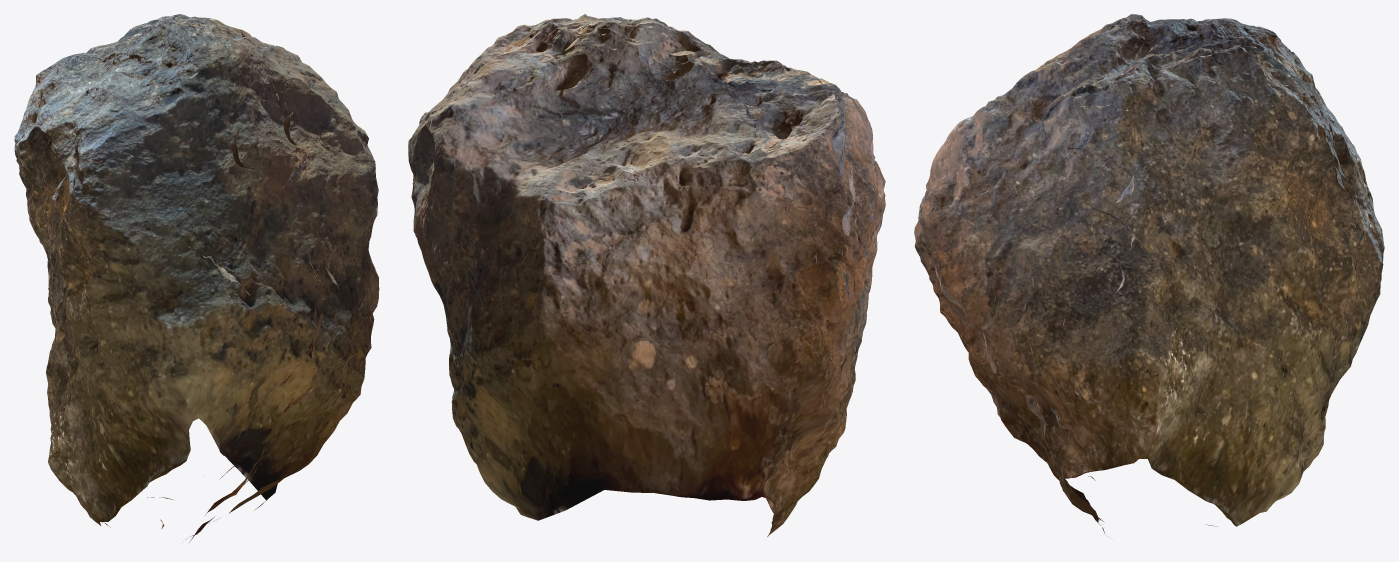
3 views of the same model, side by side, from view 1: azimuth 30°, elevation 25°; view 2: azimuth 150°, elevation 25°; view 3: azimuth 270°, elevation 25° (orthographic). The views are drawn at different scales.
Visible parts, largest first — view 1: Object_4; view 2: Object_4; view 3: Object_4.
Part boxes in pixels (bbox=[...]): Object_4: bbox=[14, 14, 379, 542]; Object_4: bbox=[408, 14, 885, 536]; Object_4: bbox=[914, 14, 1384, 533].
Size of the model in its own units: 0.2284 by 0.2929 by 0.2621.
1 material, 1 textured.
